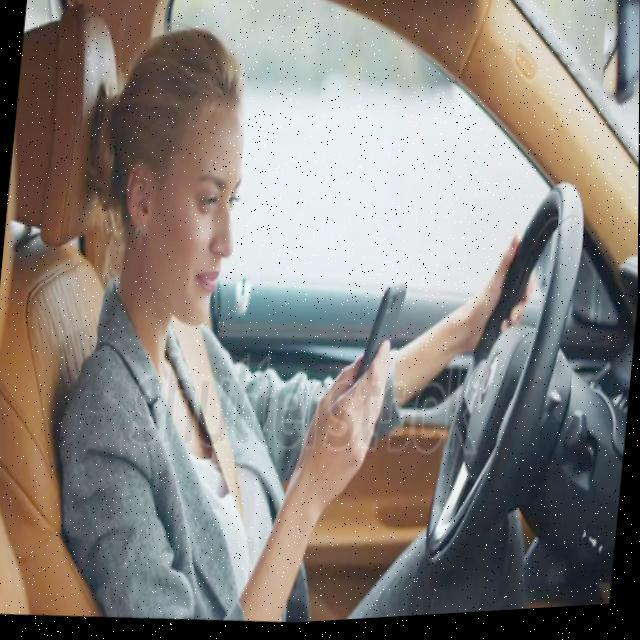PhoneCall: (355, 284, 407, 392)
